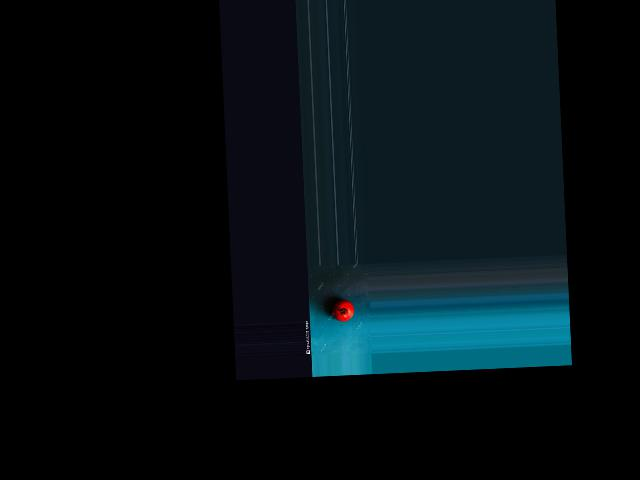tomato: (331, 299, 354, 321)
